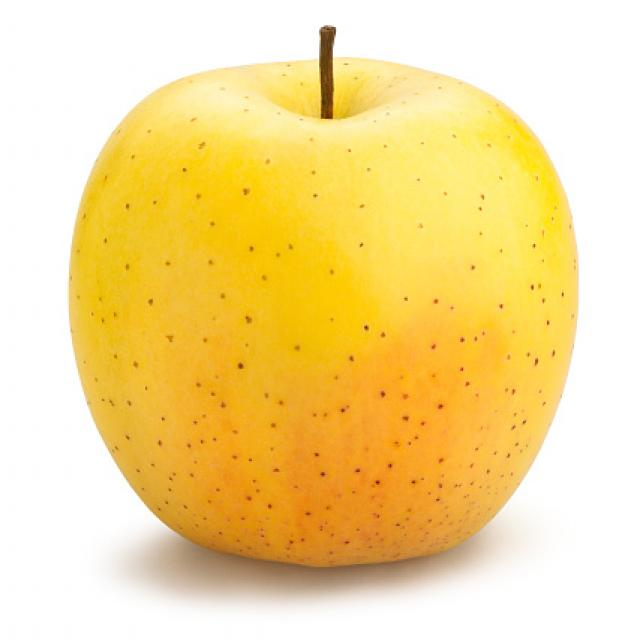Apple: (66, 27, 582, 572)
